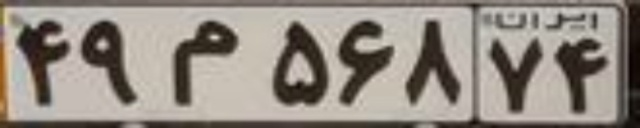4: (14, 19, 71, 106), (552, 36, 611, 113)
5: (264, 18, 330, 107)
6: (333, 17, 396, 106)
7: (483, 33, 547, 113)
8: (403, 16, 468, 109)
9: (76, 19, 139, 104)
mim: (168, 18, 241, 108)
